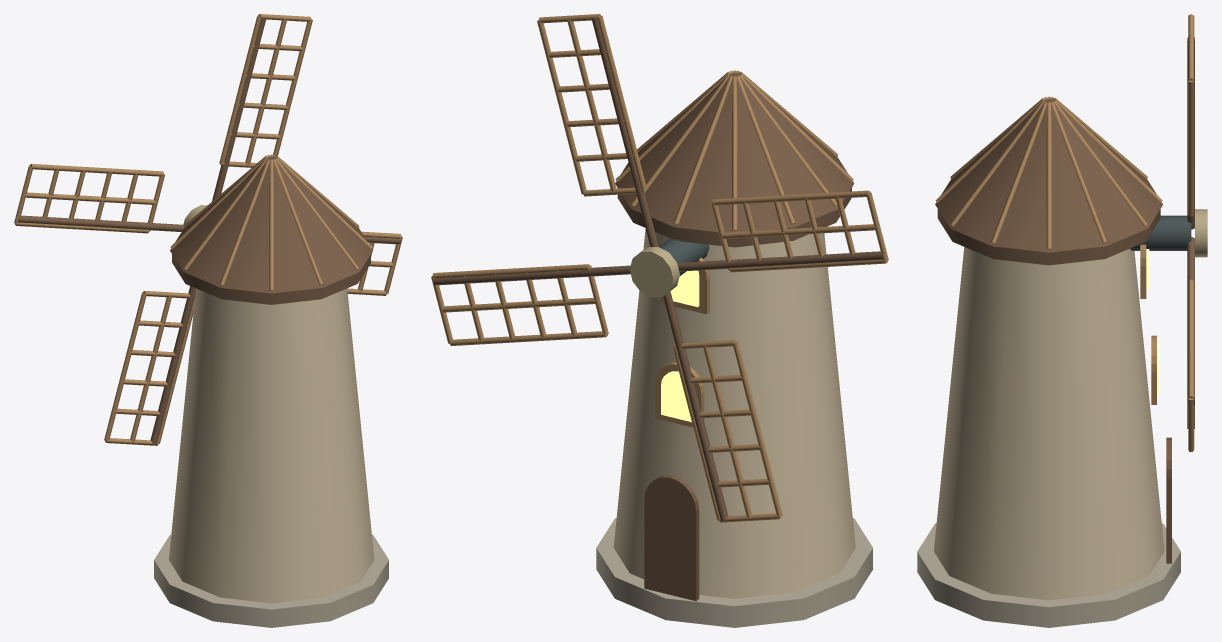
Rendered from planet_windmill.glb.
3 renders of one model, left to right at view 1: azimuth 30°, elevation 25°; view 2: azimuth 150°, elevation 25°; view 3: azimuth 270°, elevation 25°, orthographic. The views are drawn at different scales.
Visible parts, largest first — view 1: Cream tapered mill, Brown conical roof, Octagonal foot, Roof eaves, Sail central spar.003, Sail central spar.002, Sail central spar, Sail lattice rail.008, Sail lattice rail.001, Sail lattice rail, Sail lattice rail.007, Sail lattice rail.011 (+6 smaller); view 2: Cream tapered mill, Brown conical roof, Octagonal foot, Mill door, Roof eaves, Sail central spar.002, Sail brass hub, Sail central spar.003, Sail central spar, Sail central spar.001, Sail lattice rail.008, Sail lattice rail.002 (+19 smaller); view 3: Cream tapered mill, Brown conical roof, Octagonal foot, Roof eaves, Sail axle, Sail lattice rail.002, Roof ribs, Sail lattice rail.003, Roof ribs.001, Roof ribs.011, Mill door, Sail central spar.001 (+7 smaller).
Part boxes in pixels (x1,y1,x2,y2): Cream tapered mill: [168, 288, 374, 603]; Brown conical roof: [170, 156, 372, 293]; Octagonal foot: [154, 534, 388, 627]; Roof eaves: [172, 254, 370, 304]; Sail central spar.003: [18, 215, 184, 231]; Sail central spar.002: [150, 286, 195, 444]; Sail central spar: [212, 17, 266, 201]; Sail lattice rail.008: [104, 292, 146, 441]; Sail lattice rail.001: [245, 18, 286, 165]; Sail lattice rail: [219, 15, 261, 164]; Sail lattice rail.007: [130, 295, 171, 442]; Sail lattice rail.011: [29, 164, 163, 176]; Cream tapered mill: [613, 229, 855, 598]; Brown conical roof: [615, 72, 854, 232]; Octagonal foot: [596, 518, 872, 627]; Mill door: [644, 475, 699, 600]; Roof eaves: [617, 188, 851, 247]; Sail central spar.002: [663, 291, 728, 520]; Sail brass hub: [629, 247, 679, 297]; Sail central spar.003: [677, 251, 884, 271]; Sail central spar: [591, 18, 658, 246]; Sail central spar.001: [433, 265, 630, 285]; Sail lattice rail.008: [733, 342, 782, 517]; Sail lattice rail.002: [537, 20, 586, 194]; Cream tapered mill: [933, 247, 1164, 600]; Brown conical roof: [935, 99, 1162, 252]; Octagonal foot: [917, 523, 1180, 627]; Roof eaves: [937, 209, 1160, 265]; Sail axle: [1130, 215, 1191, 250]; Sail lattice rail.002: [1188, 80, 1194, 216]; Roof ribs: [1046, 102, 1051, 249]; Sail lattice rail.003: [1188, 279, 1194, 398]; Roof ribs.001: [991, 102, 1047, 243]; Roof ribs.011: [1051, 102, 1107, 243]; Mill door: [1166, 437, 1171, 563]; Sail central spar.001: [1187, 236, 1194, 404].
Bounding box in the file's own units: 3.97 × 4.94 × 2.29.
